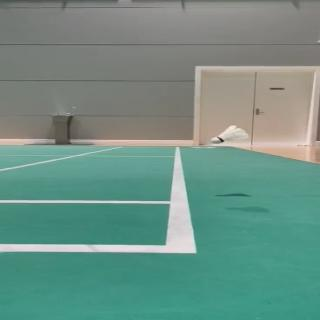Shuttle: (210, 125, 248, 144)
